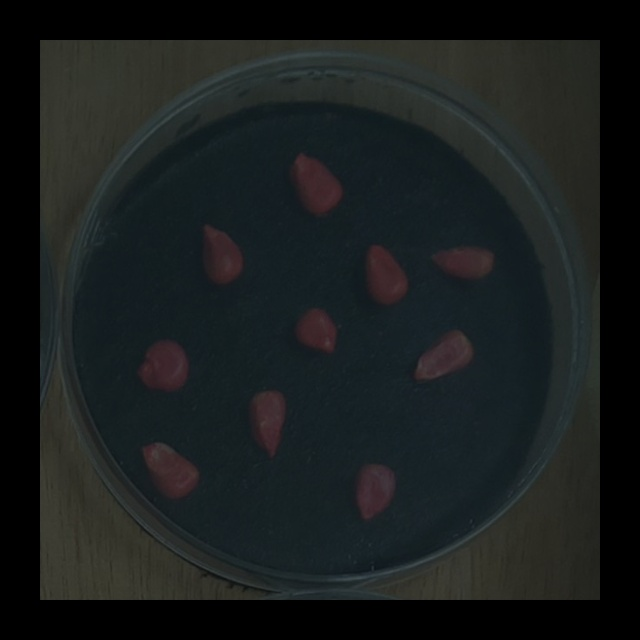Zea mays: (408, 320, 480, 388), (135, 434, 205, 503), (283, 145, 348, 219), (129, 329, 194, 397), (194, 215, 250, 290), (358, 238, 414, 311), (242, 382, 291, 464), (347, 457, 402, 526), (423, 238, 499, 284), (286, 298, 344, 358)
